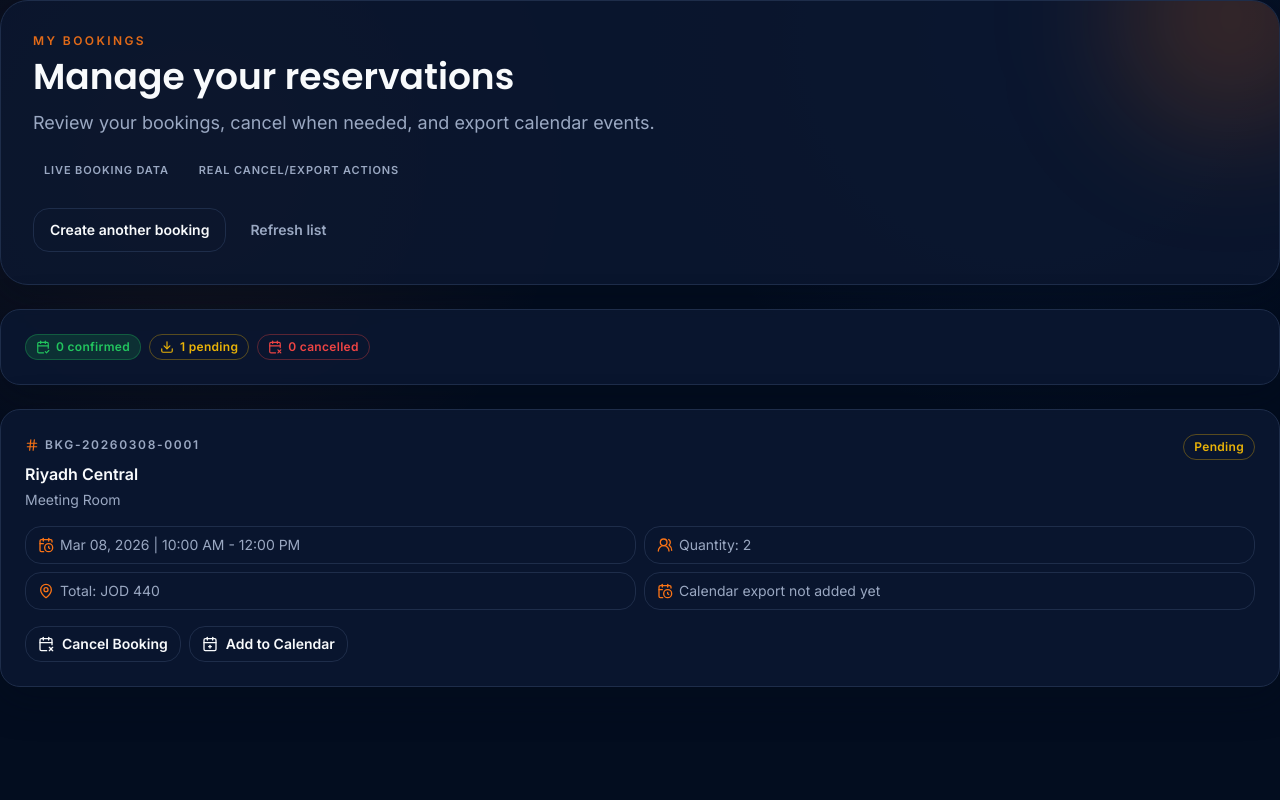
Test case: CustomerMyBookingsPage › cancels booking through backend endpoint
This screenshot has width=1280, height=800.
Click the button "Cancel Booking".
click(103, 644)  # box [25,626,181,662]
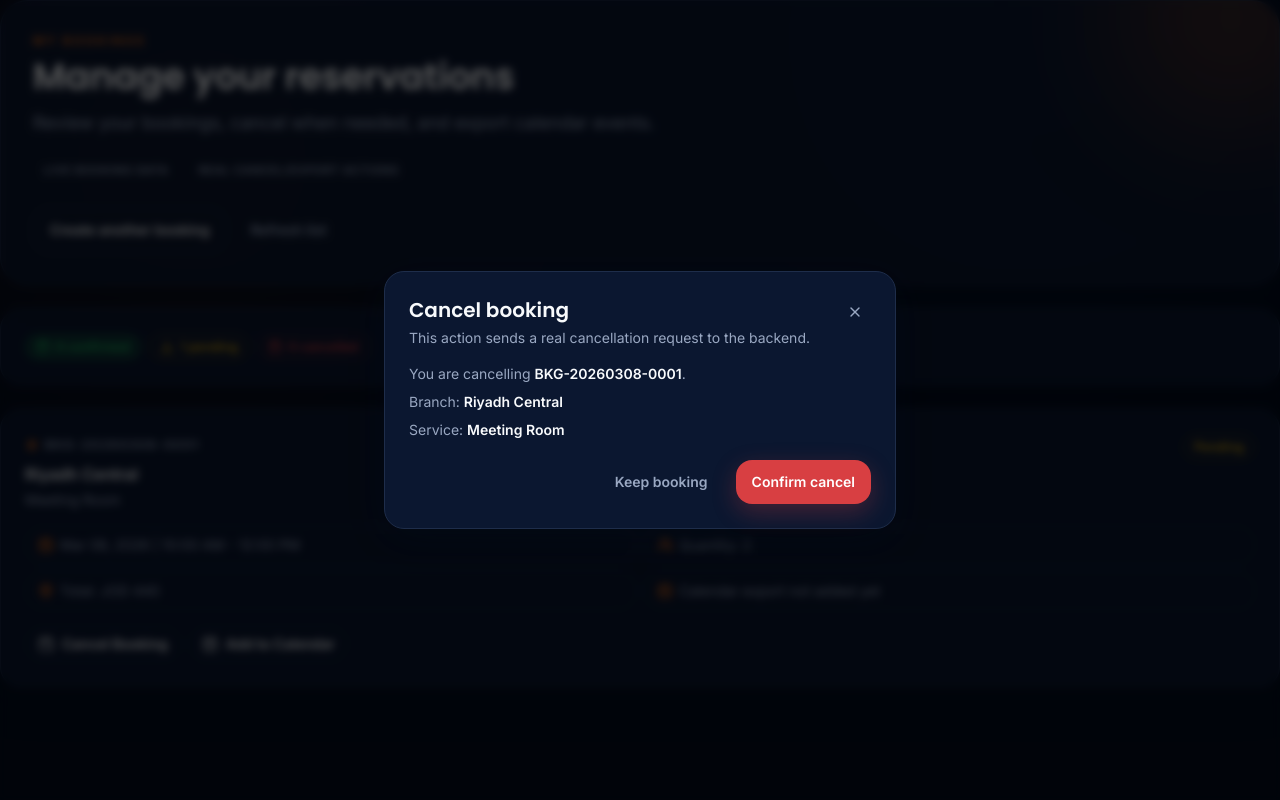
Click the button "Confirm cancel".
click(803, 482)  # box [736,460,871,504]
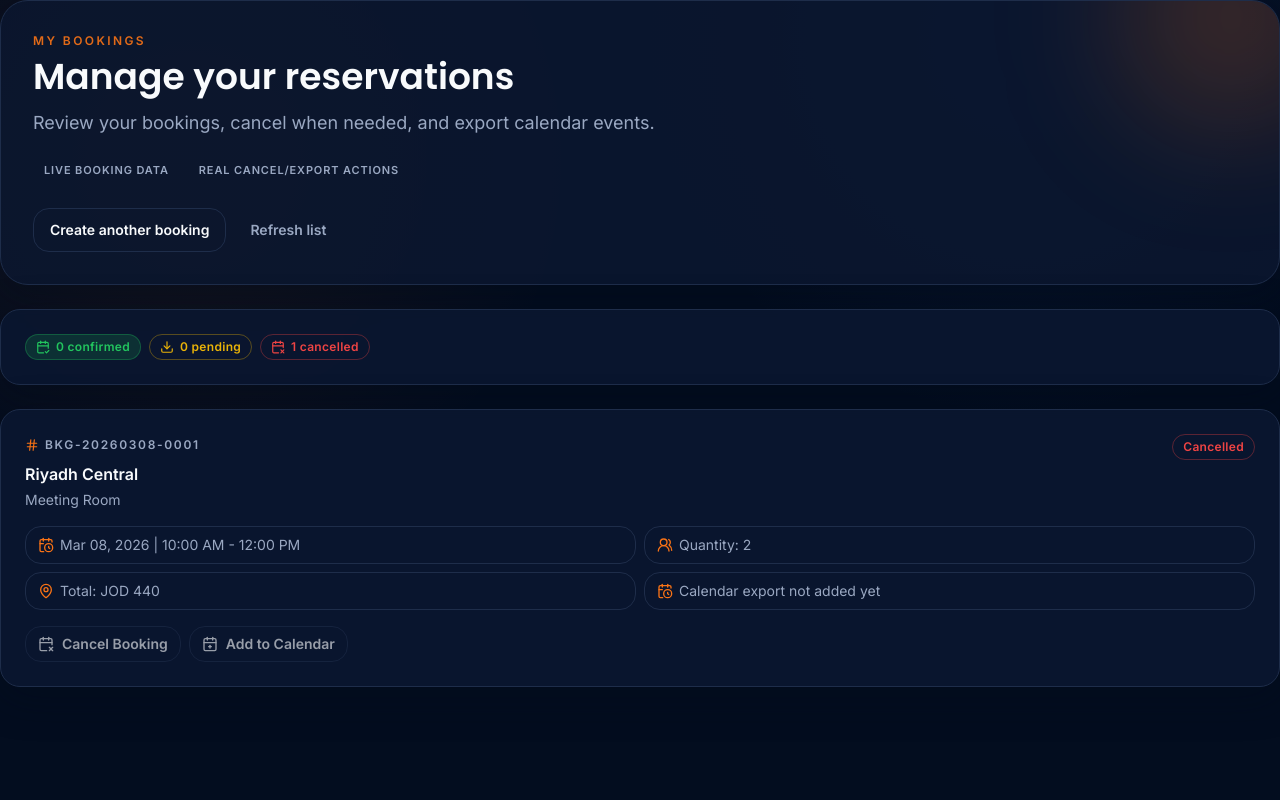
Check: the text "1 cancelled" is shown, box [260,334,370,360]
